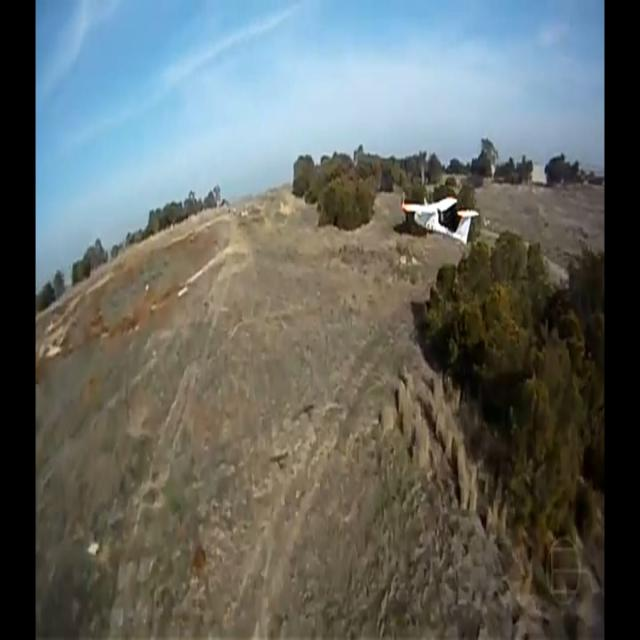iha: (432, 196, 448, 247)
